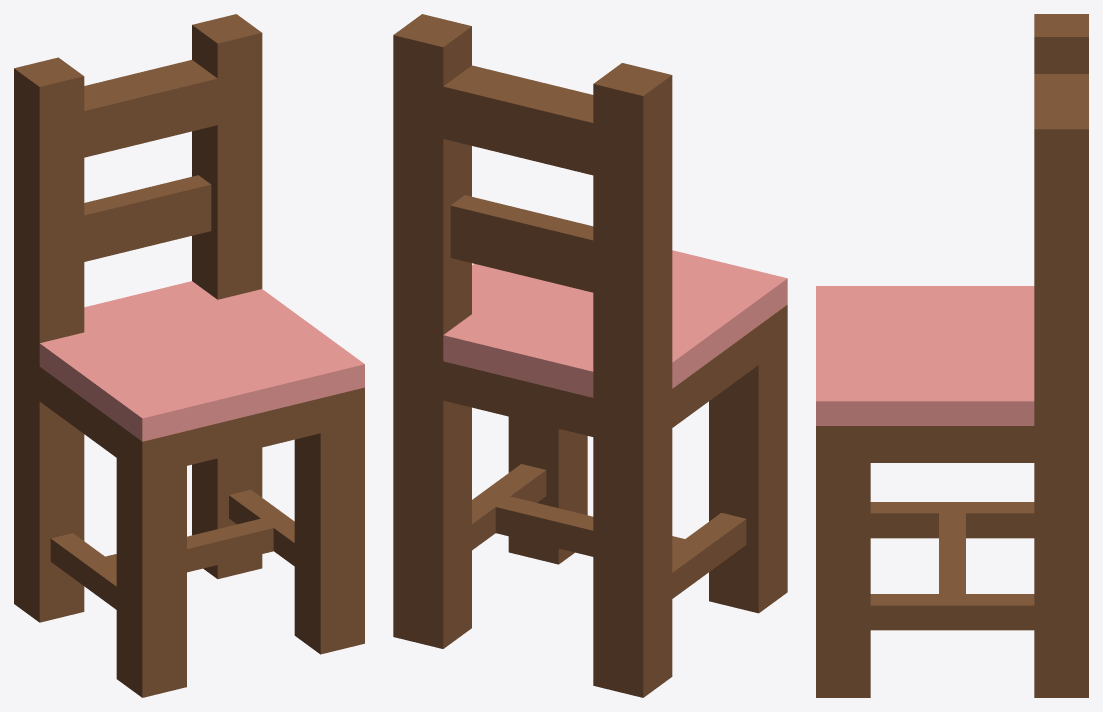
The model's file is m_chair_cushion.glb.
3 renders of one model, left to right at view 1: azimuth 30°, elevation 25°; view 2: azimuth 150°, elevation 25°; view 3: azimuth 270°, elevation 25°, orthographic. The views are drawn at different scales.
Visible parts, largest first — view 1: chairCushion(Clone); view 2: chairCushion(Clone); view 3: chairCushion(Clone).
Part boxes in pixels (box(x1,y1,x2,y2)): chairCushion(Clone): box(14, 14, 364, 697); chairCushion(Clone): box(393, 14, 787, 697); chairCushion(Clone): box(816, 14, 1088, 697).
Bounding box in the file's own units: 0.413 × 0.95 × 0.413.
